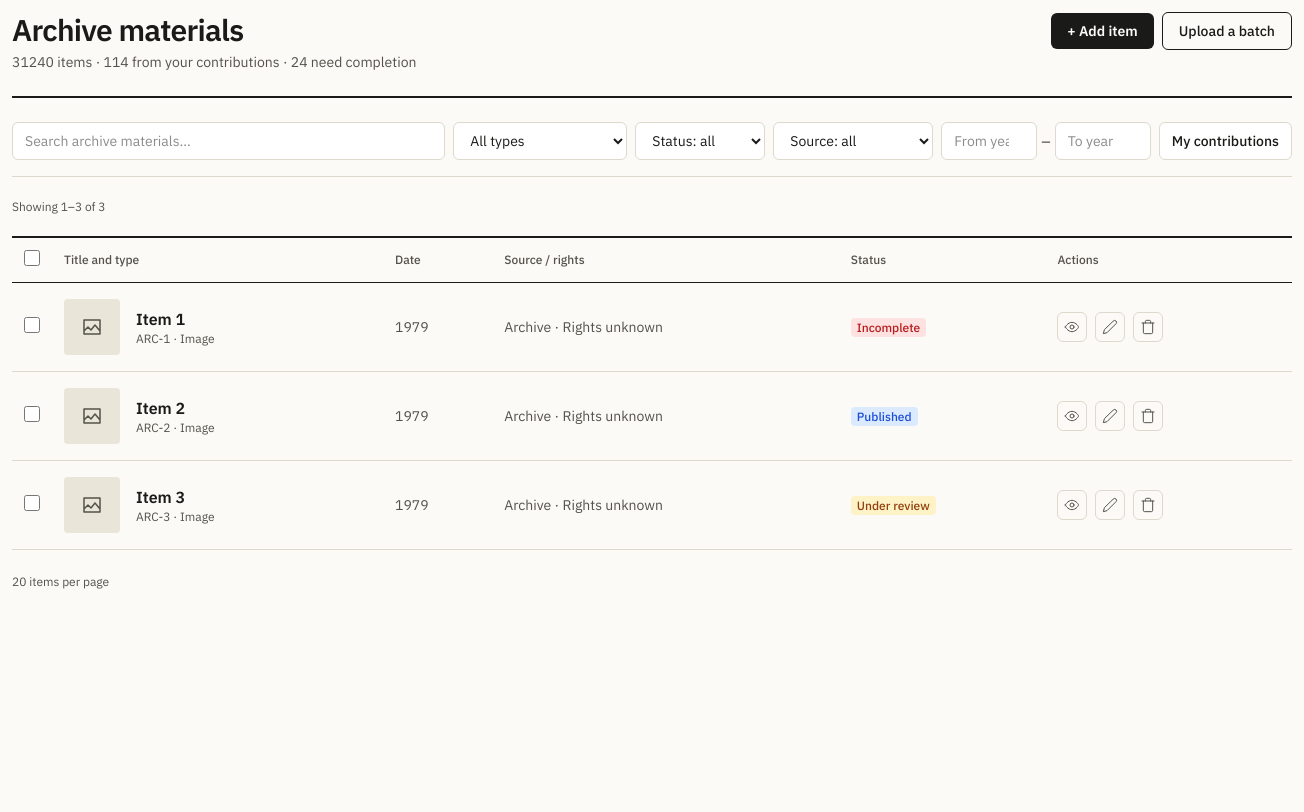
it: ArchiveRegistryPage › selects rows, sends a bulk status change and lists the items that failed
Click the 1st checkbox with test id "row-select" at (32, 324), box [24,316,40,332]
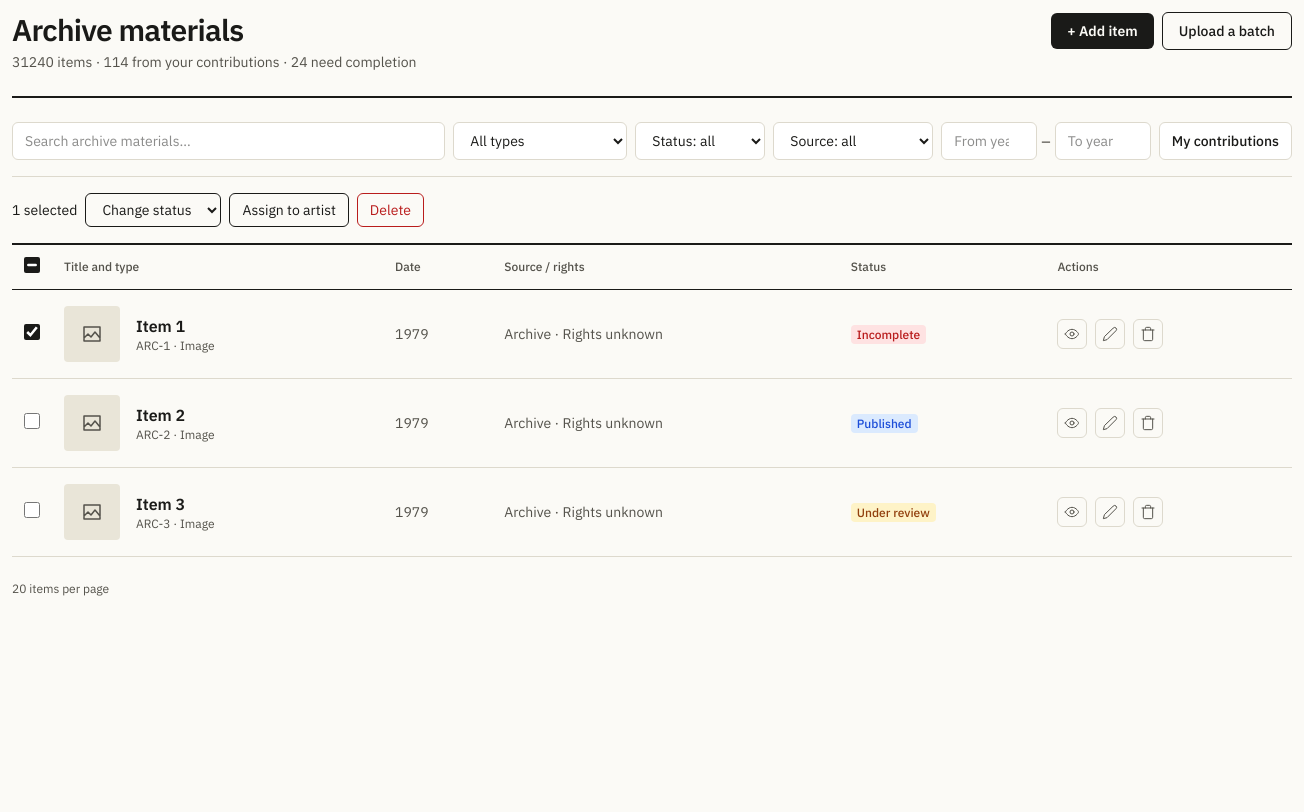
Click the 2nd checkbox with test id "row-select" at (32, 420), box [24,412,40,428]
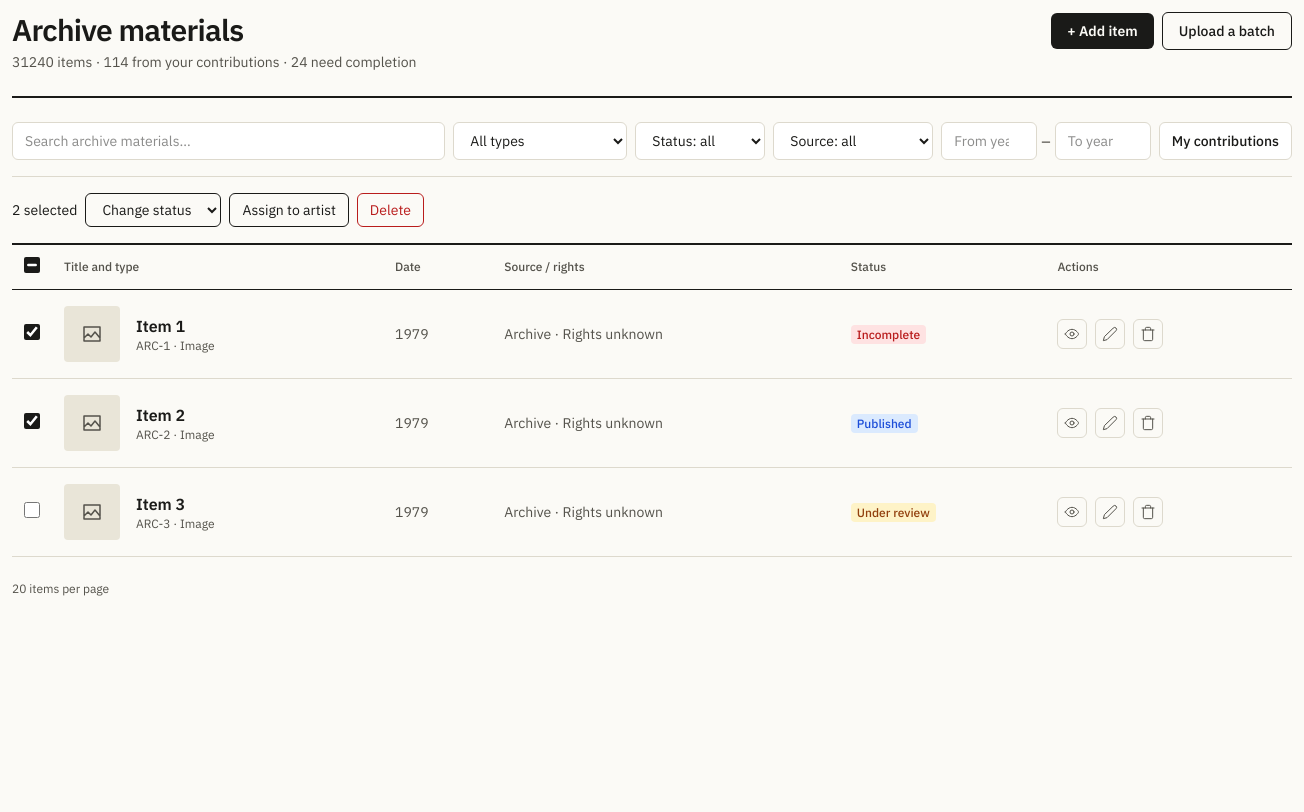
Check: the element with test id "bulk-bar" shows "2 selected", box [12,201,77,219]
Select "Published" in the dropdown with test id "bulk-status" at (153, 210), box [85,193,221,227]
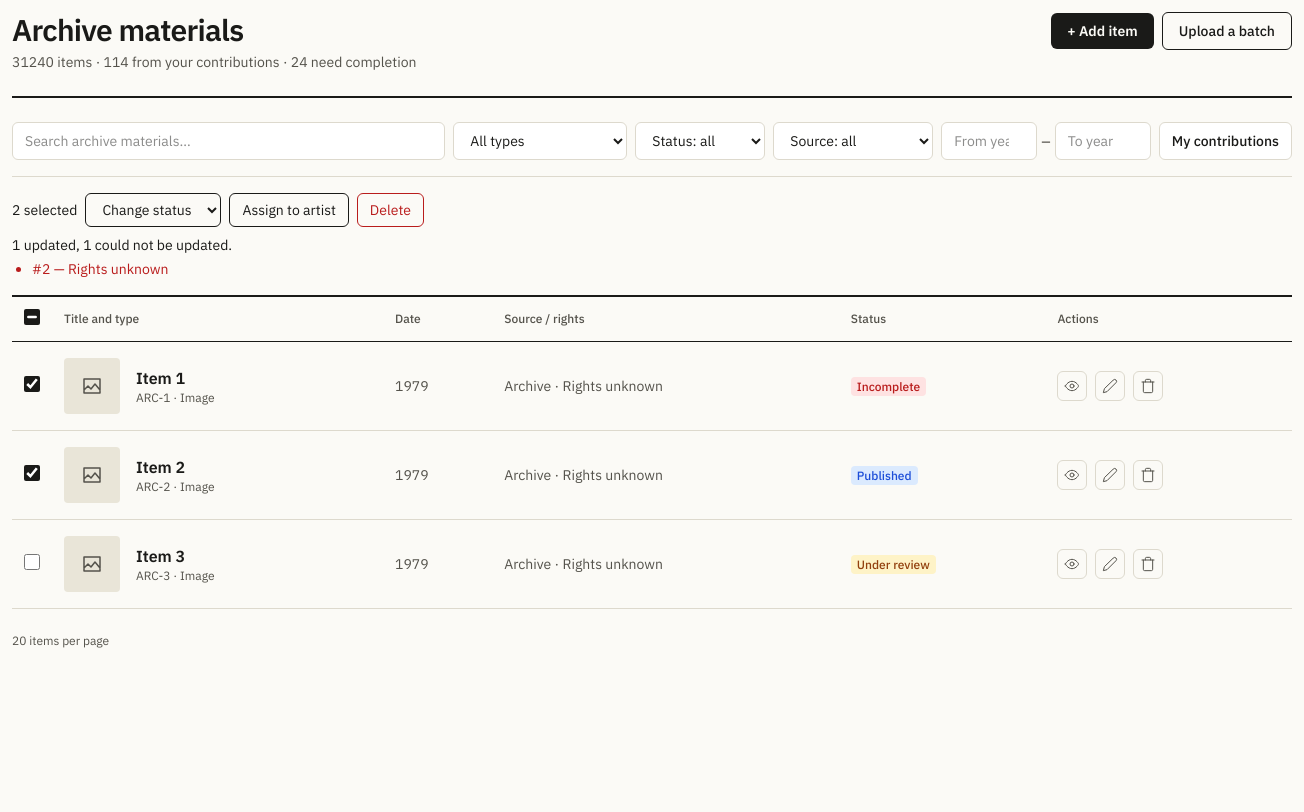
Check: the list with test id "bulk-failures" shows "Rights unknown", box [32,260,168,278]
